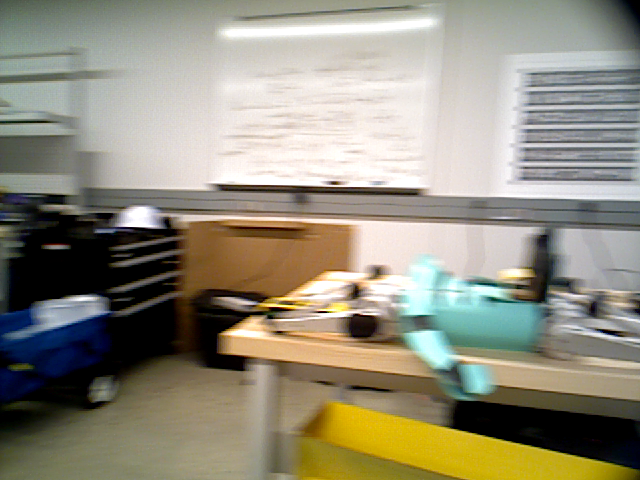painting4: (497, 53, 640, 196)
